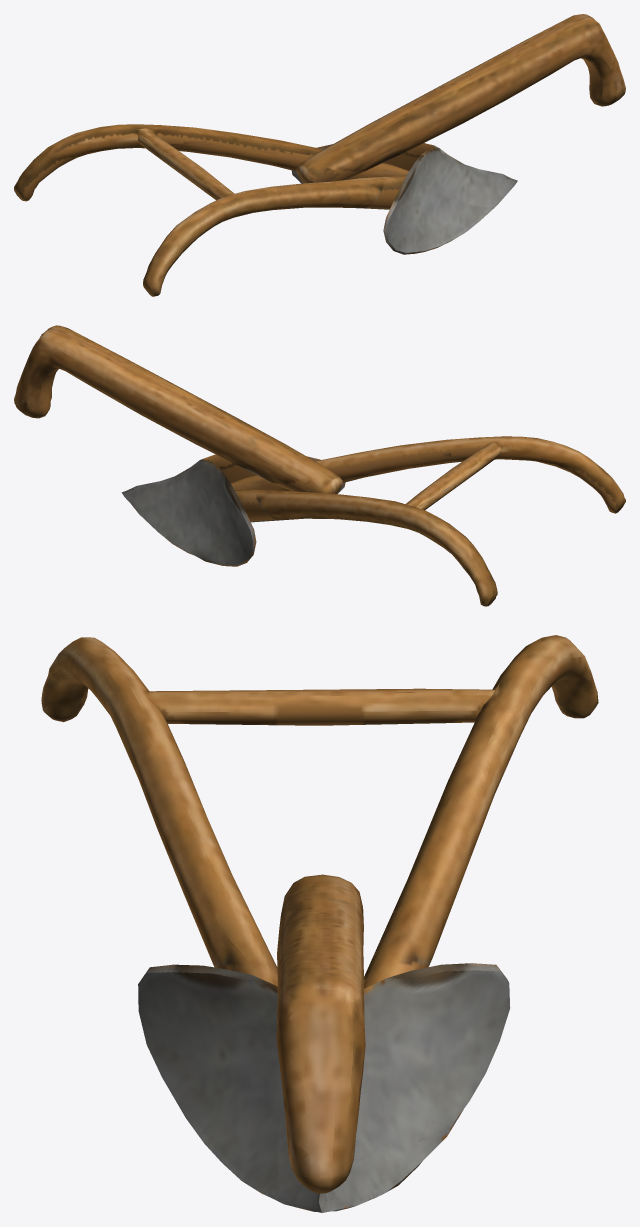
File: item_mm9_10371.glb
3 views of the same model, one above another, from view 1: azimuth 30°, elevation 25°; view 2: azimuth 150°, elevation 25°; view 3: azimuth 270°, elevation 25° (orthographic). The views are drawn at different scales.
Parts seen in each view (by area): view 1: d10371; view 2: d10371; view 3: d10371.
Boxes of the visible parts, x1,y1,x2,y2 form: d10371: (14, 14, 625, 296); d10371: (14, 325, 625, 606); d10371: (41, 635, 598, 1212).
Size of the model in its own units: 1.08 by 0.3188 by 0.4807.
Materials: 1 (1 with a texture image).
